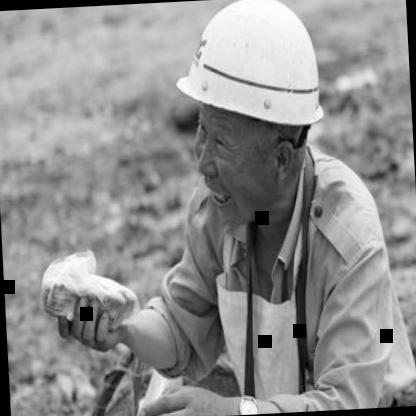helmet: (163, 0, 341, 236)
